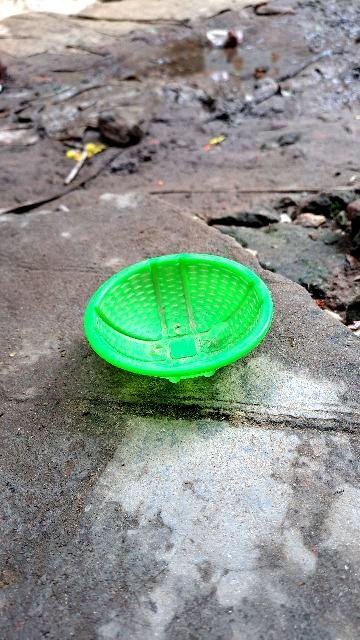hardplastic: (94, 245, 272, 384)
